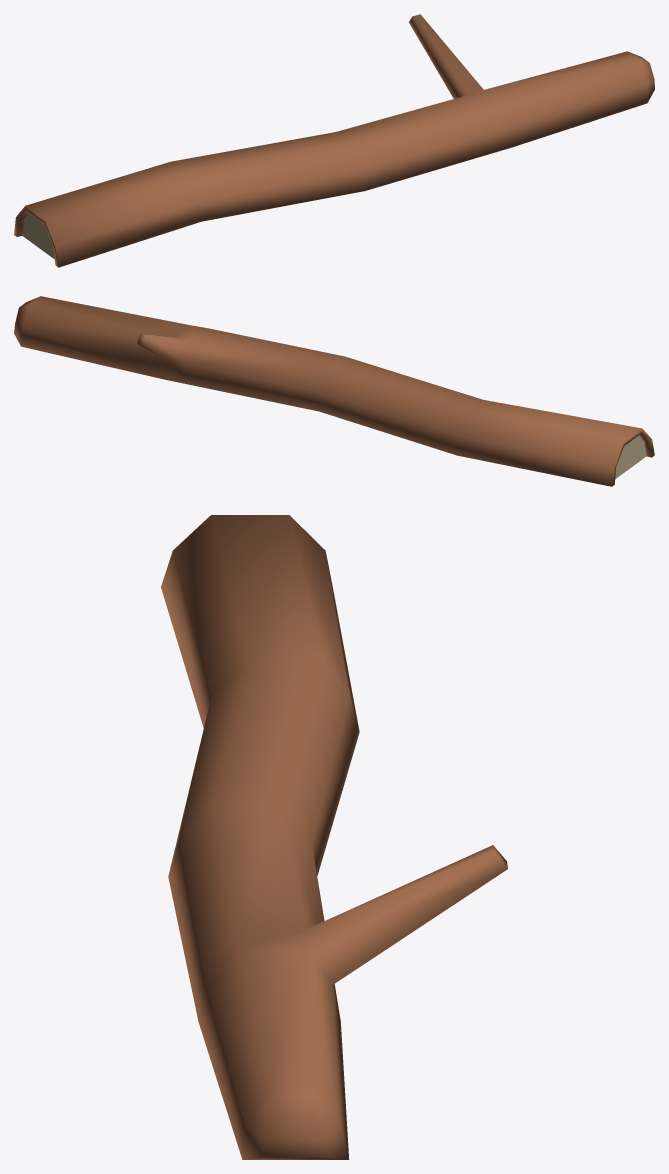
Rendered from Log_Brown.fbx.
The picture shows the model from 3 angles, top to bottom: view 1: azimuth 30°, elevation 25°; view 2: azimuth 150°, elevation 25°; view 3: azimuth 270°, elevation 25°; orthographic projection. The views are drawn at different scales.
Visible parts, largest first — view 1: Cube_277, Cube_276; view 2: Cube_277, Cube_276; view 3: Cube_277.
Boxes of the visible parts, x1,y1,x2,y2 form: Cube_277: [14, 14, 654, 267]; Cube_276: [22, 213, 54, 258]; Cube_277: [14, 296, 654, 486]; Cube_276: [615, 435, 646, 478]; Cube_277: [161, 515, 507, 1159].
Size of the model in its own units: 513 by 63.59 by 129.
